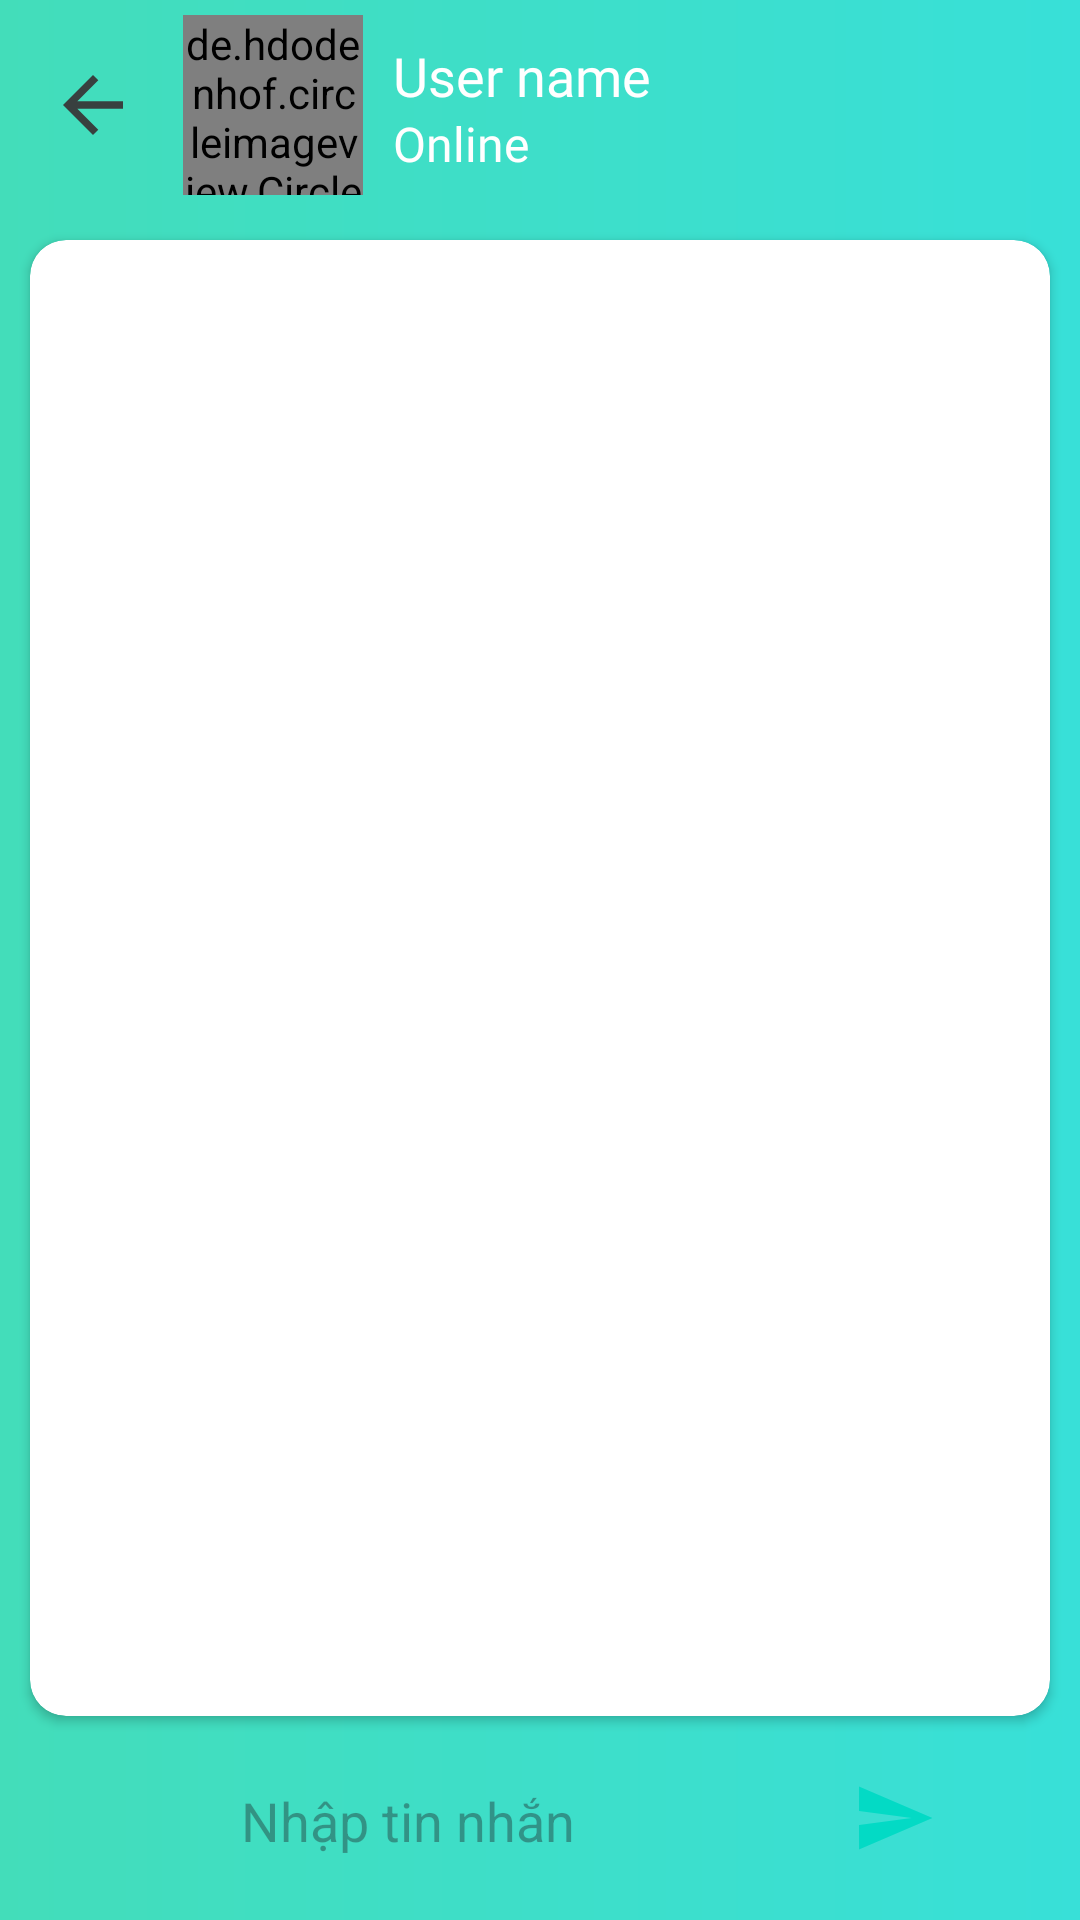

Named icons in this screenshot (1080px x 1920px) and their bounding boxes, (x1, y1, x2, y2):
arrow back: (63, 75, 123, 135)
send: (859, 1787, 931, 1849)
